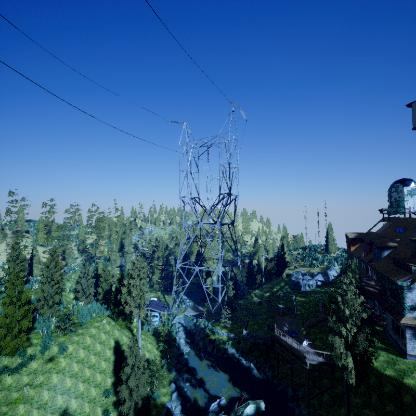tower: (166, 100, 250, 320)
